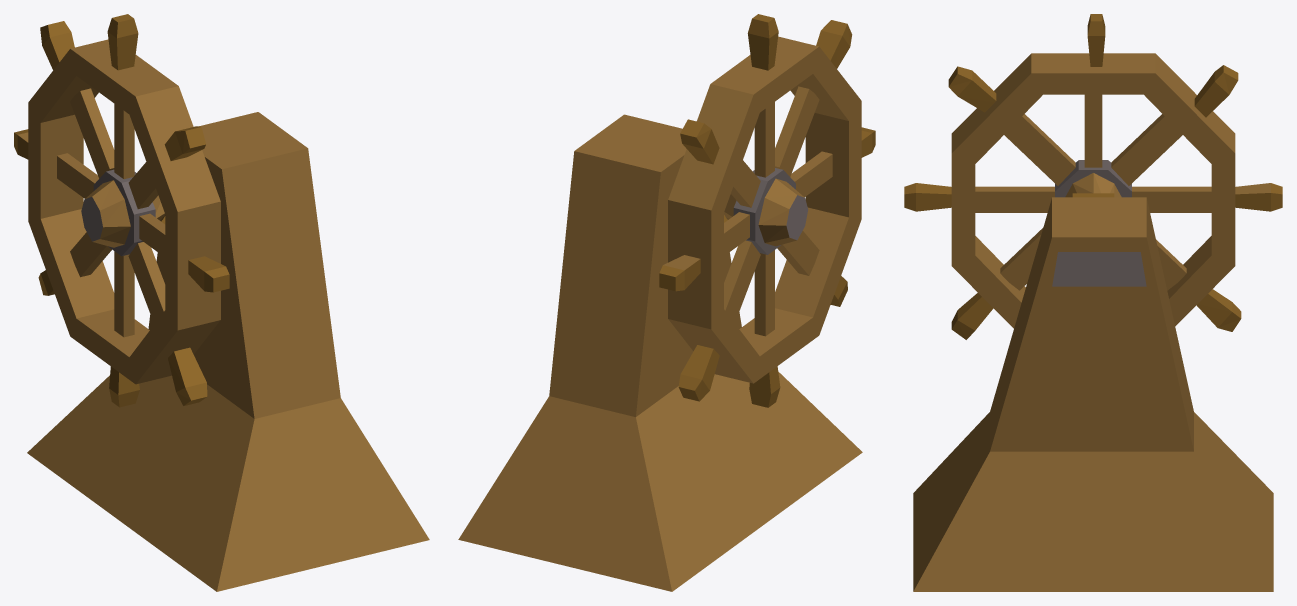
File: obj_ships_wheel_0.obj
3 renders of one model, left to right at view 1: azimuth 30°, elevation 25°; view 2: azimuth 150°, elevation 25°; view 3: azimuth 270°, elevation 25°, orthographic. The views are drawn at different scales.
Bounding box in the file's own units: 0.7031 × 1.39 × 1.
